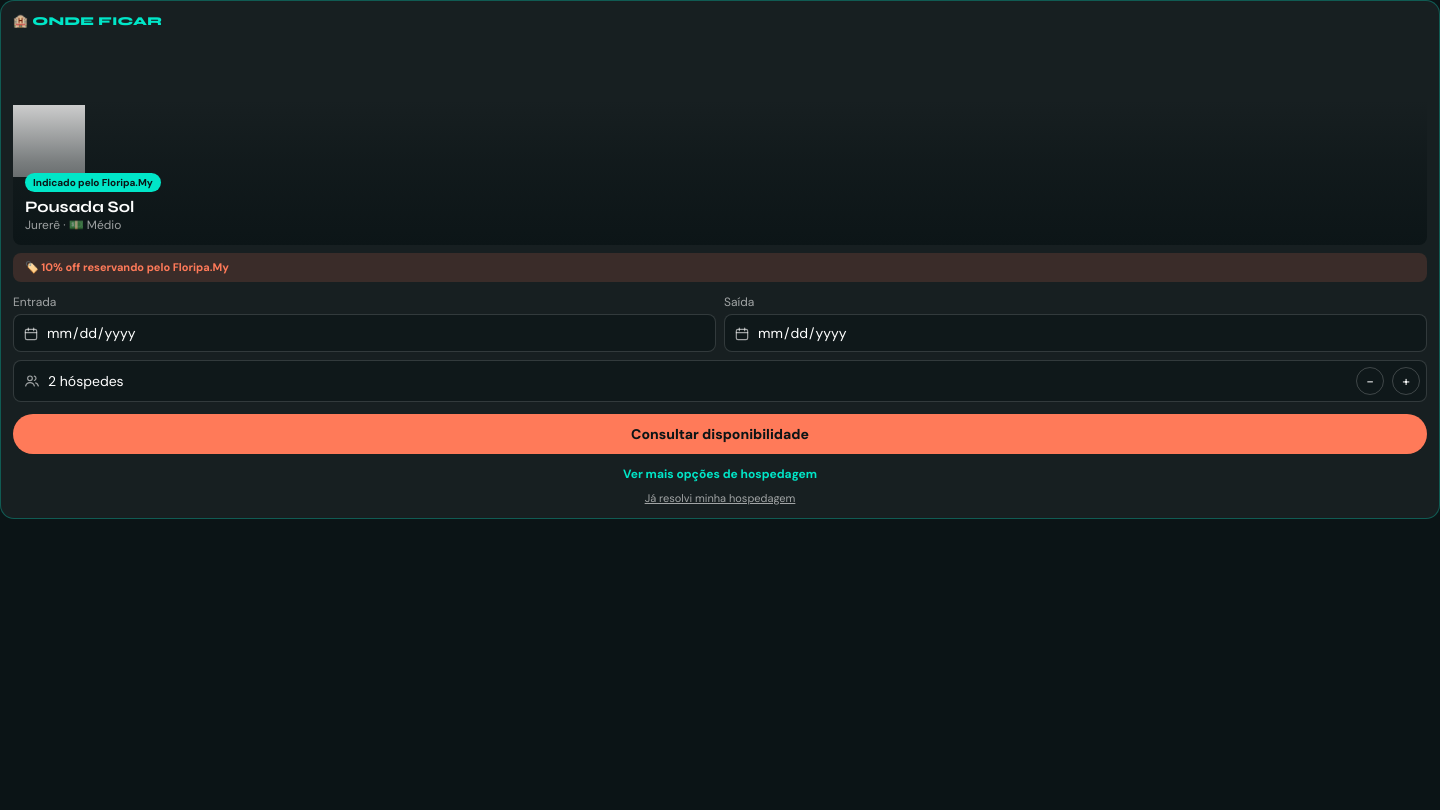
Test: LodgingCard › swaps to an alternative, using the site link when there is no WhatsApp
Click the button "Ver mais opções de hospedagem" at point(720, 474), box x1=623 y1=466 x2=817 y2=482
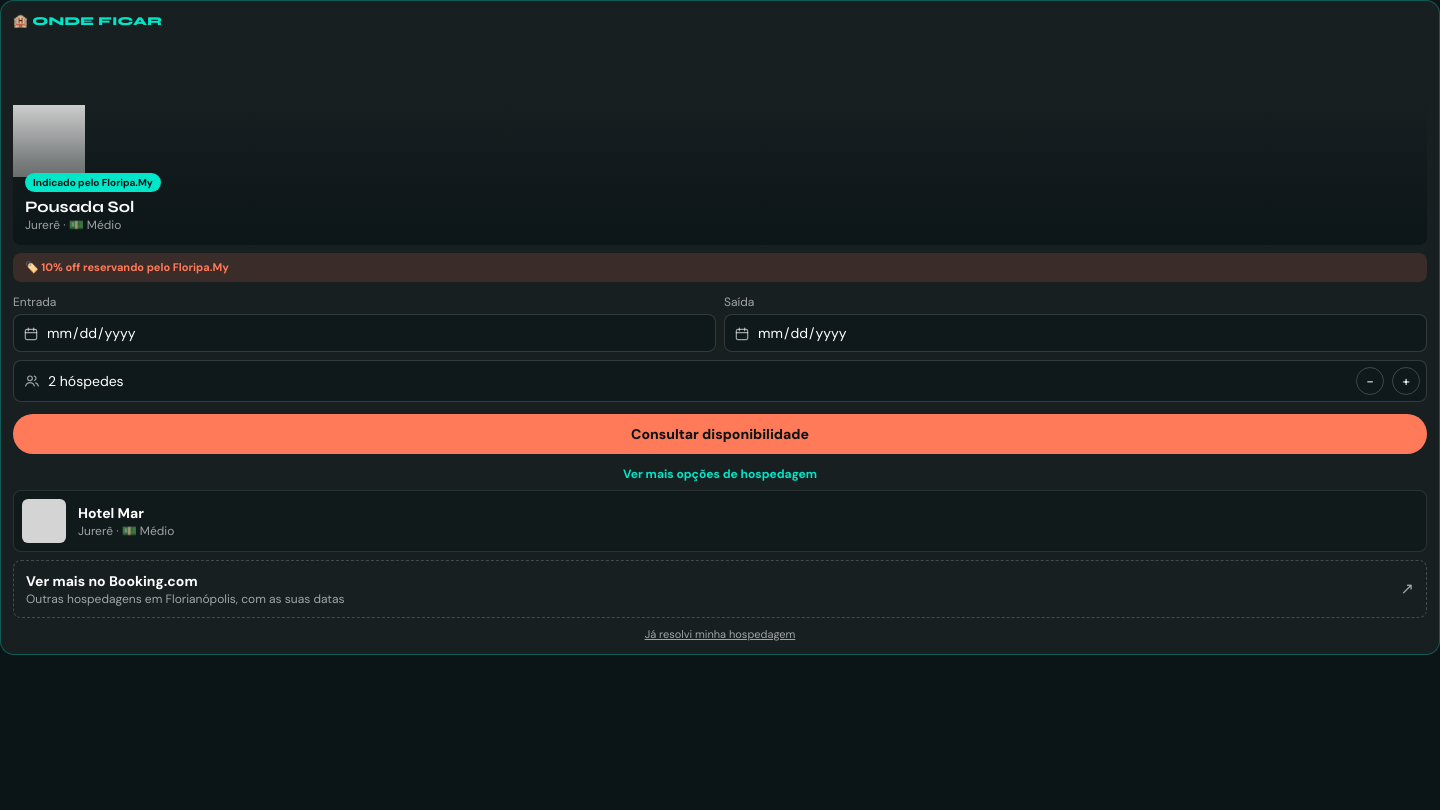
Click the button "Hotel Mar Jurerê · 💵 Médio" at point(44, 520), box x1=13 y1=490 x2=1427 y2=552
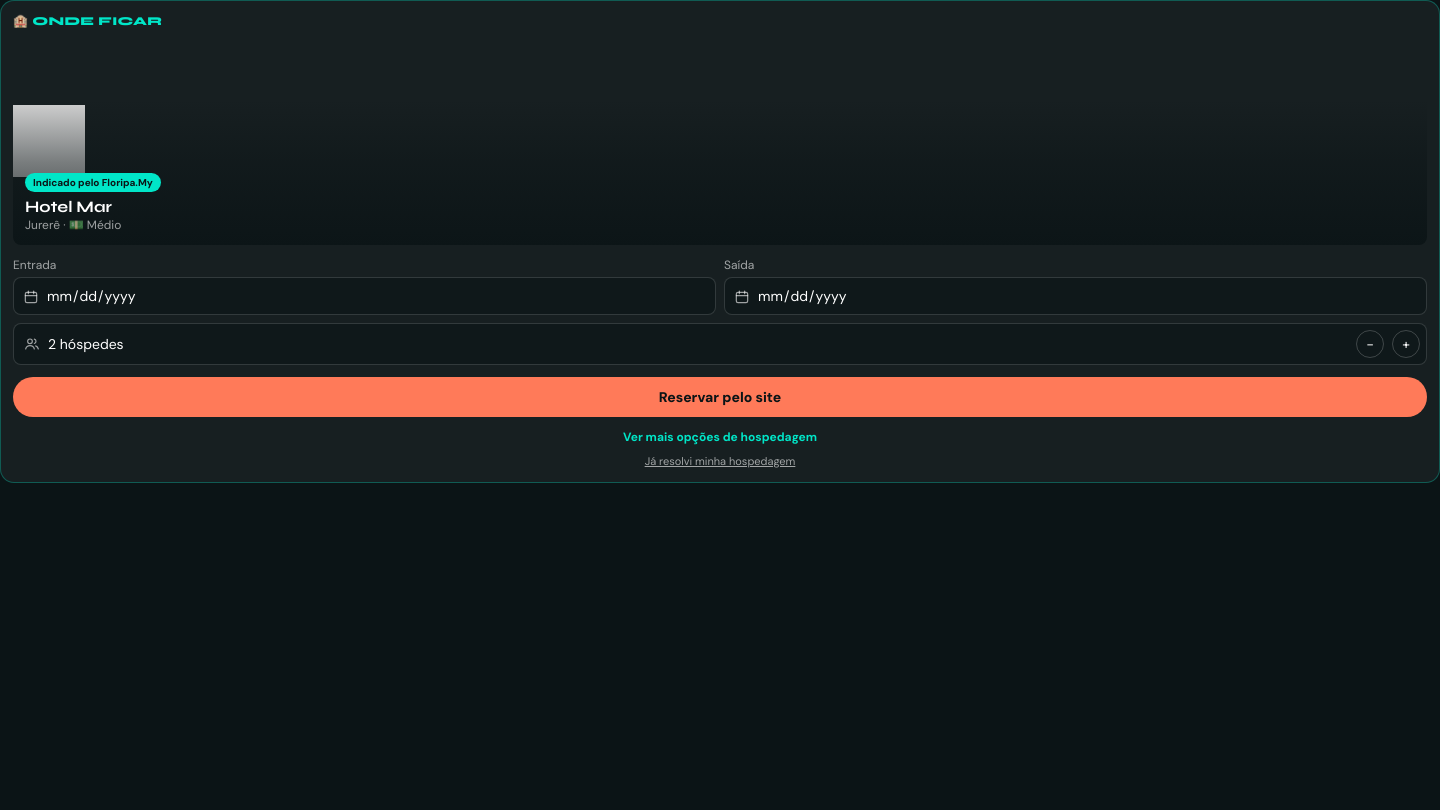
Result: the link "Consultar disponibilidade" is gone
